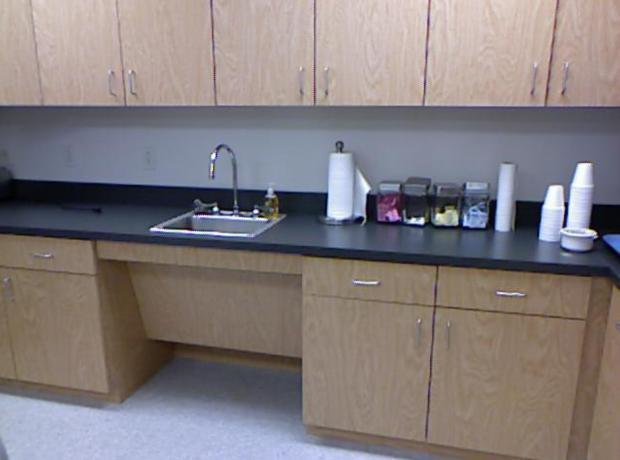Lavaplatos: (146, 141, 290, 258)
